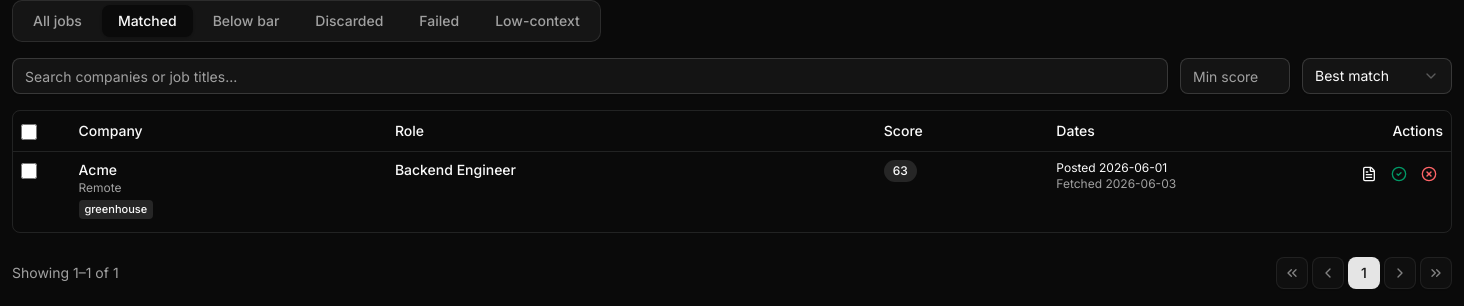
DiscoveredJobsTable › shows both seniority and domain verdict pills for a below-bar row
The width and height of the screenshot is (1464, 306).
Click the button "Below bar": (246, 21) left=197, top=5, right=295, bottom=37
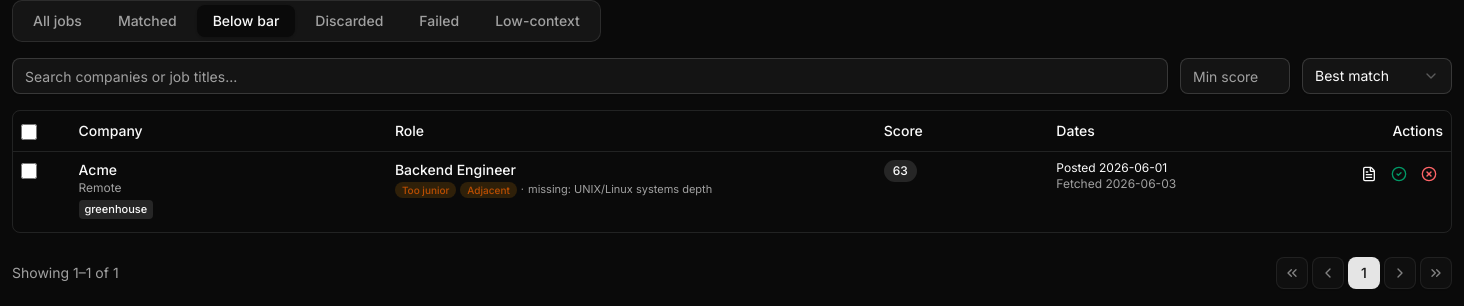
Now the text "Too junior" is shown, box left=395, top=182, right=456, bottom=198
Now the text "Adjacent" is shown, box left=460, top=182, right=517, bottom=198
Now the text "missing: UNIX/Linux systems depth" is shown, box left=528, top=182, right=712, bottom=198
